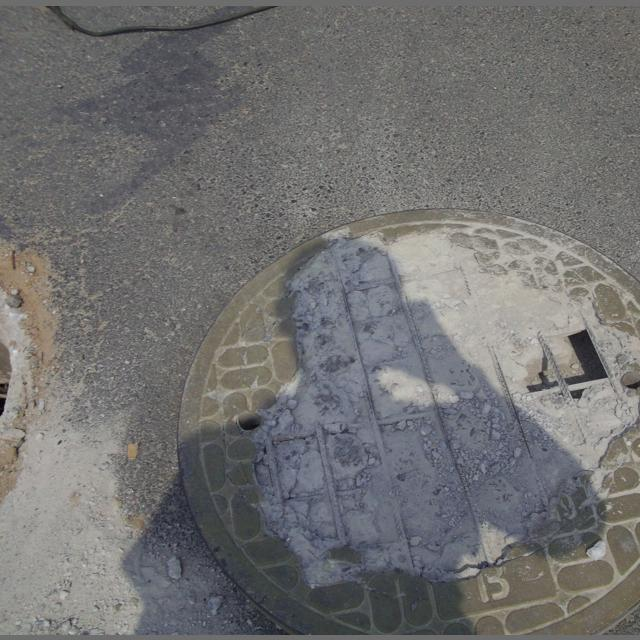broke: (173, 203, 640, 635)
